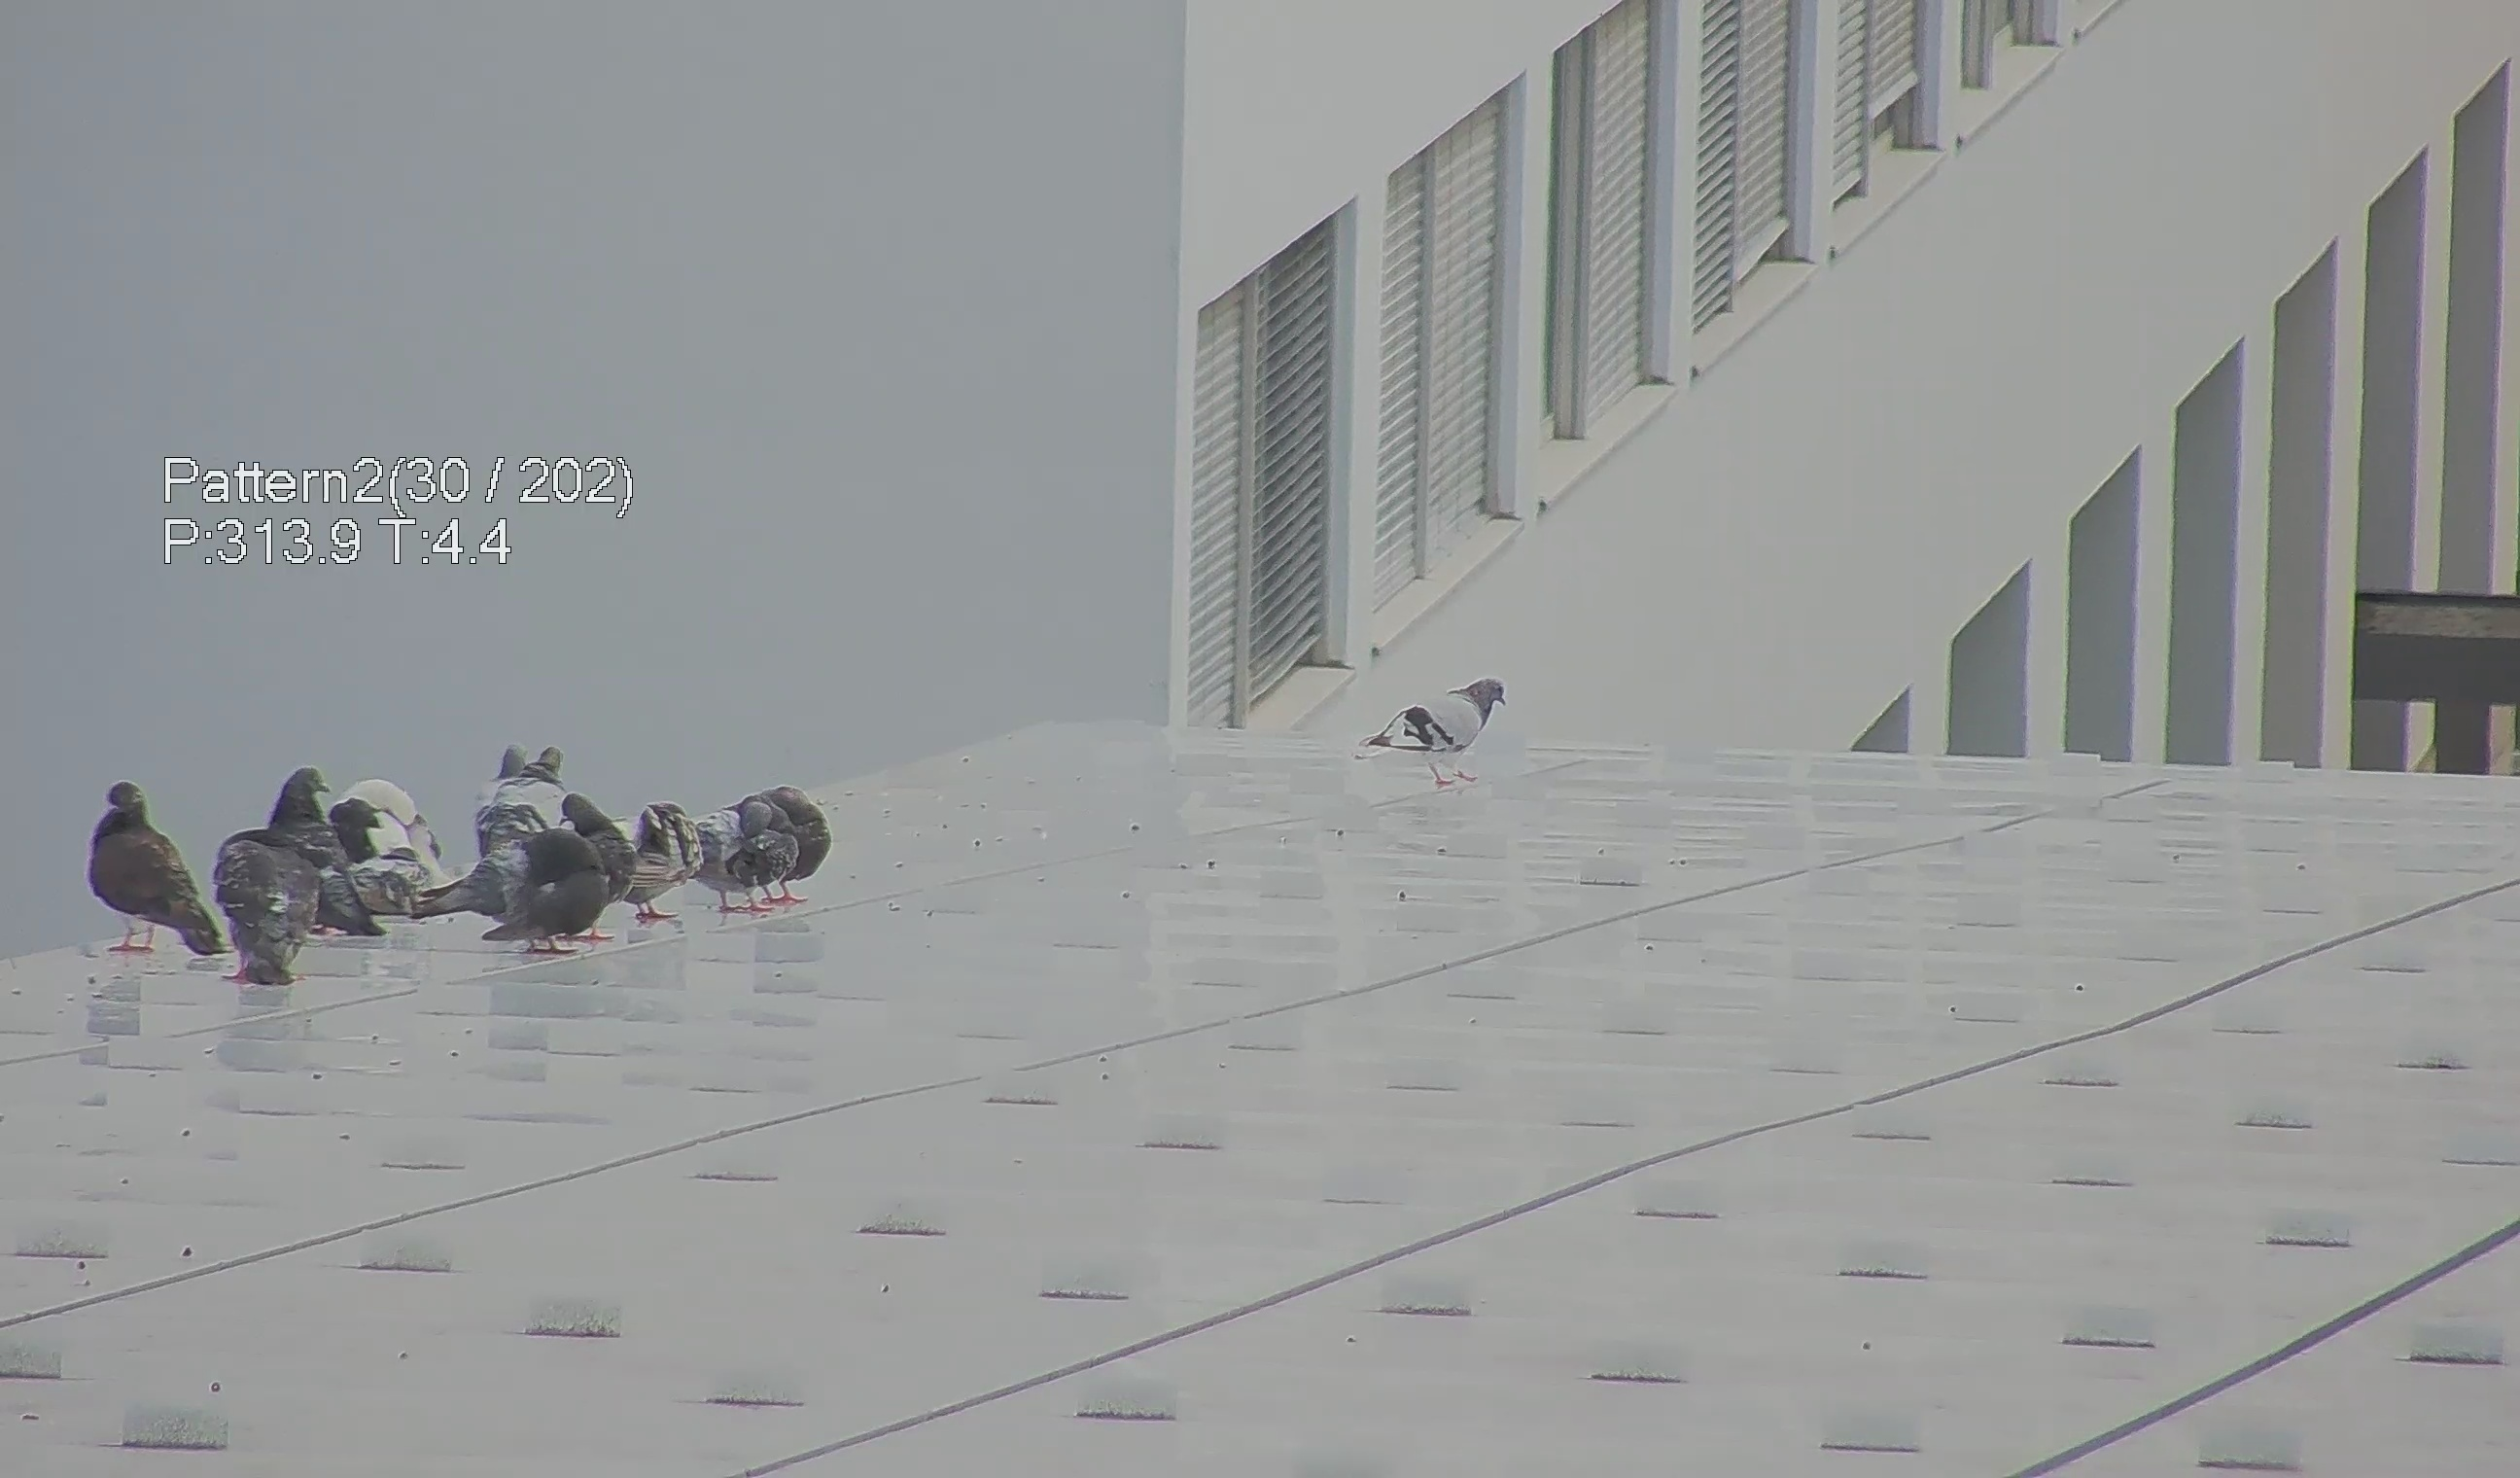Pigeon: (70, 769, 222, 975), (457, 802, 605, 966), (1366, 663, 1521, 788), (679, 774, 816, 913), (218, 818, 324, 992), (338, 772, 447, 922), (760, 774, 841, 911), (615, 795, 698, 927), (484, 723, 568, 829), (264, 753, 364, 836), (552, 778, 619, 852)
